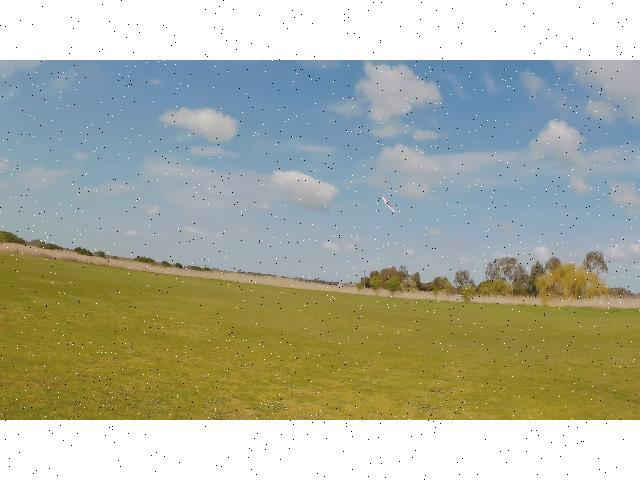Anti-Drone: (382, 196, 396, 214)
